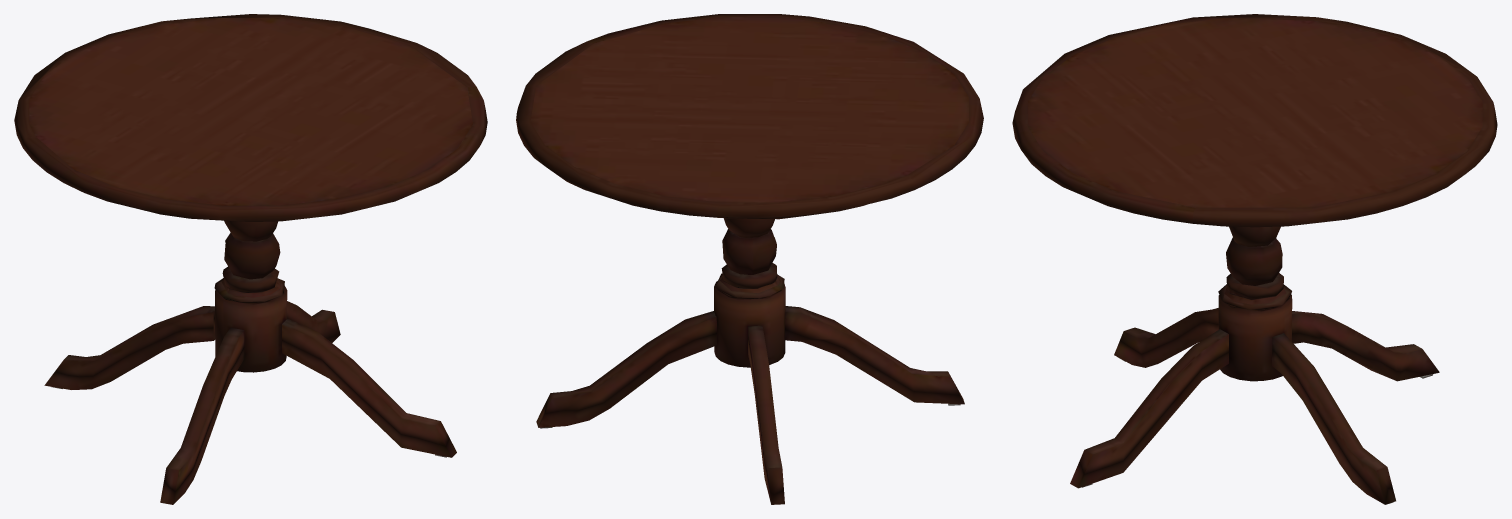
Rendered from round_wooden_table_01.glb.
The picture shows the model from 3 angles, left to right: view 1: azimuth 30°, elevation 25°; view 2: azimuth 150°, elevation 25°; view 3: azimuth 270°, elevation 25°; orthographic projection. The views are drawn at different scales.
Visible parts, largest first — view 1: round_wooden_table_01; view 2: round_wooden_table_01; view 3: round_wooden_table_01.
Part boxes in pixels (bbox=[...]): round_wooden_table_01: bbox=[14, 14, 487, 504]; round_wooden_table_01: bbox=[516, 14, 983, 504]; round_wooden_table_01: bbox=[1012, 14, 1497, 504].
Size of the model in its own units: 1.4 by 1 by 1.4.
Materials: 1 (1 with a texture image).
